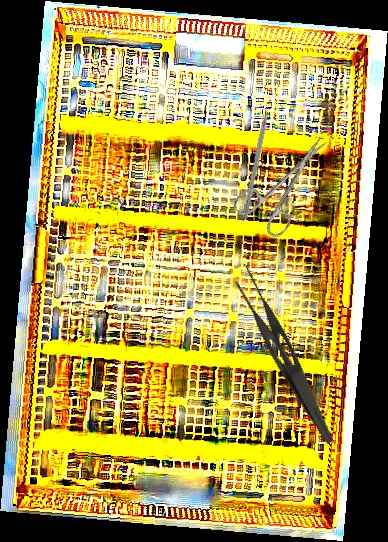Dressing Forceps: (223, 264, 353, 445)
Iris Scissors: (230, 122, 347, 244)
Pusher: (241, 95, 275, 220)
